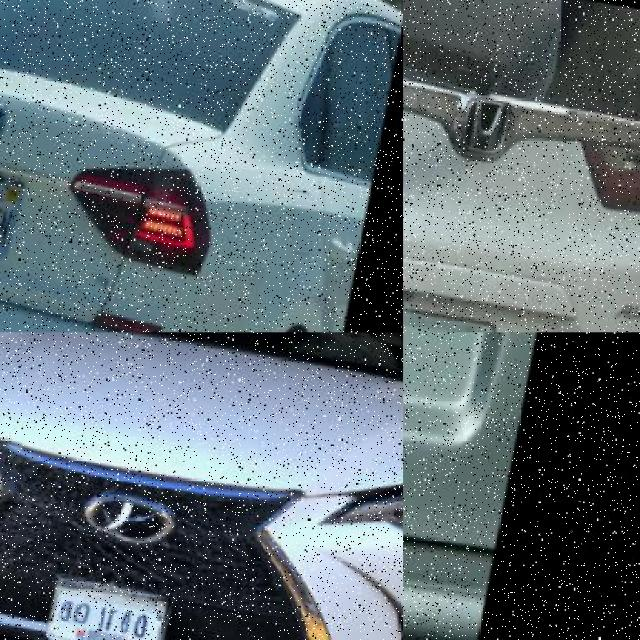licenseplate: (403, 332, 534, 452), (57, 575, 181, 640), (0, 158, 45, 255), (403, 300, 505, 332)
